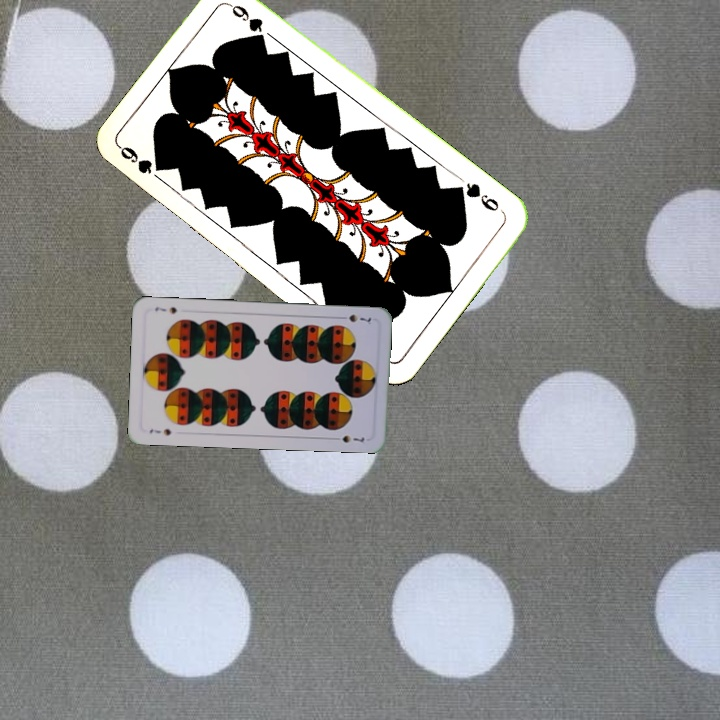G9: (451, 178, 507, 216), (115, 142, 155, 177)
S7: (335, 310, 374, 325), (146, 424, 173, 438)
